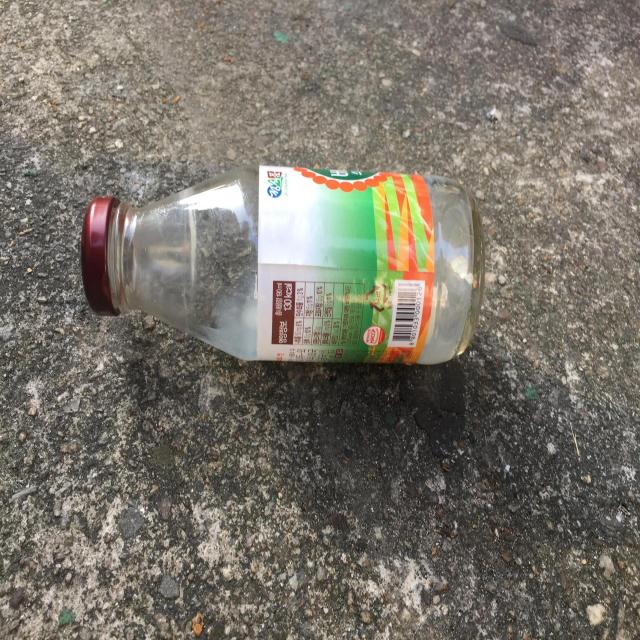glass: (81, 166, 485, 364)
